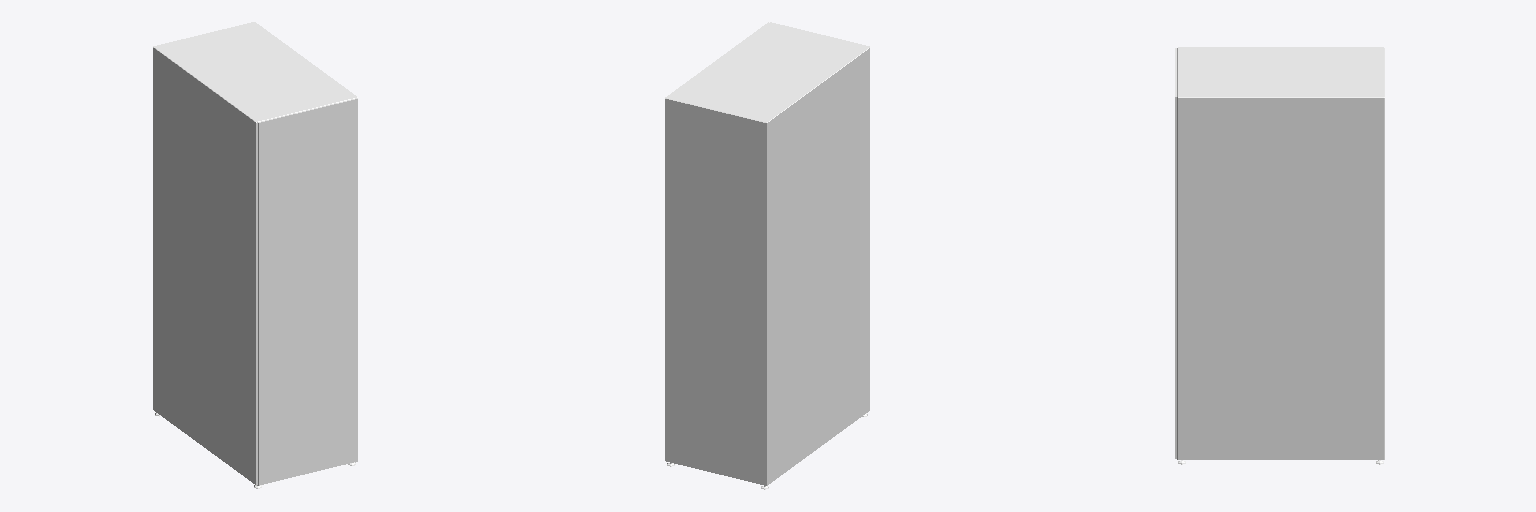
File: cabinet.obj
3 views of the same model, side by side, from view 1: azimuth 30°, elevation 25°; view 2: azimuth 150°, elevation 25°; view 3: azimuth 270°, elevation 25° (orthographic).
Visible parts, largest first — view 1: ____; view 2: ____; view 3: ____.
Part boxes in pixels (bbox=[...]): ____: bbox=[153, 22, 357, 488]; ____: bbox=[665, 22, 869, 489]; ____: bbox=[1175, 47, 1384, 464].
Size of the model in its own units: 592 by 2025 by 1045.